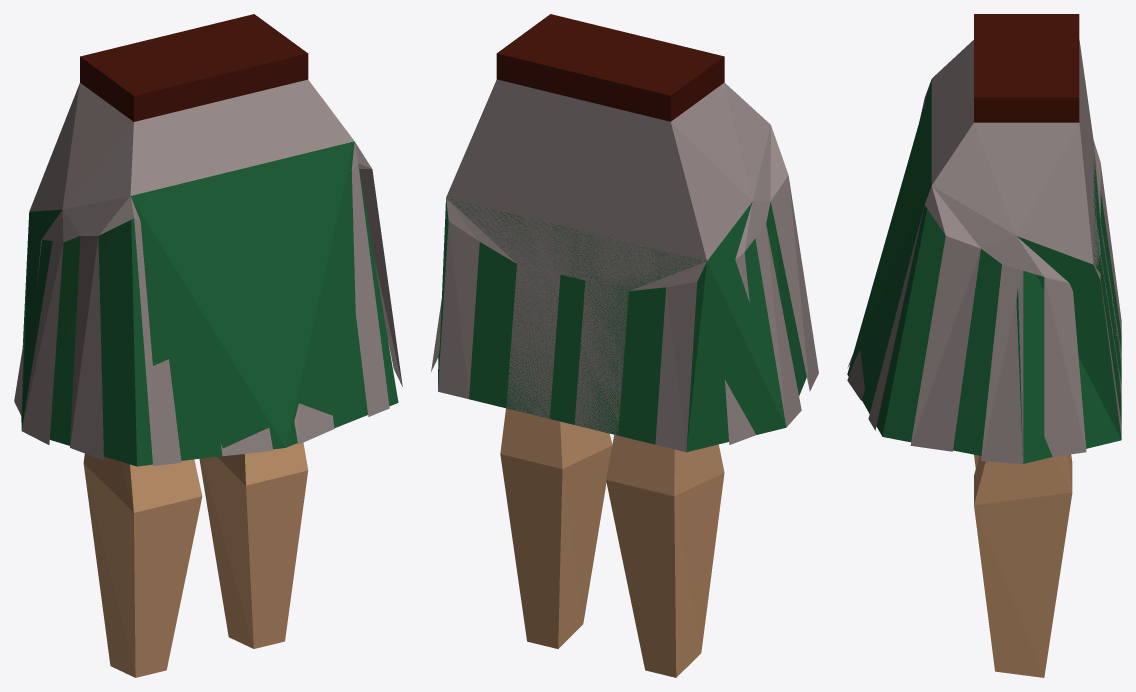
File: npc_world_achietties_3.obj
3 renders of one model, left to right at view 1: azimuth 30°, elevation 25°; view 2: azimuth 150°, elevation 25°; view 3: azimuth 270°, elevation 25°, orthographic. The views are drawn at different scales.
Bounding box in the file's own units: 0.4375 × 0.7188 × 0.3047.
